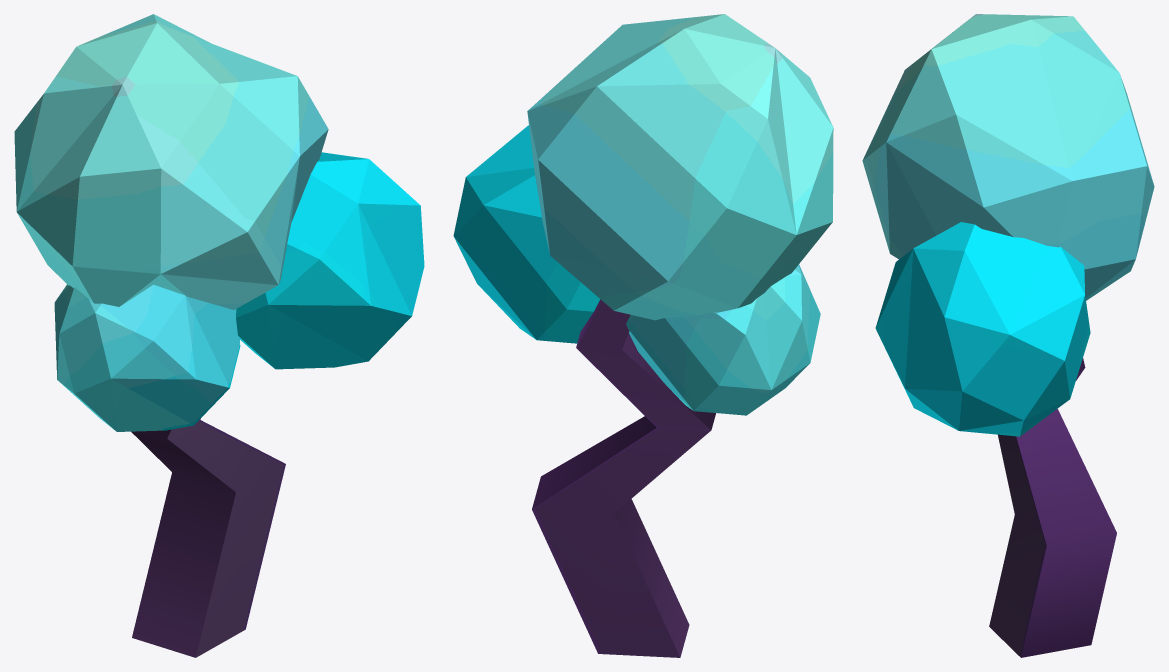
File: Tree6.fbx
3 views of the same model, side by side, from view 1: azimuth 30°, elevation 25°; view 2: azimuth 150°, elevation 25°; view 3: azimuth 270°, elevation 25° (orthographic). The views are drawn at different scales.
Visible parts, largest first — view 1: Tree6; view 2: Tree6; view 3: Tree6.
Boxes of the visible parts, box(x1,y1,x2,y2) form: Tree6: box(14, 14, 424, 657); Tree6: box(453, 14, 833, 657); Tree6: box(862, 14, 1154, 657).
Size of the model in its own units: 3.05 by 5.06 by 2.24.
